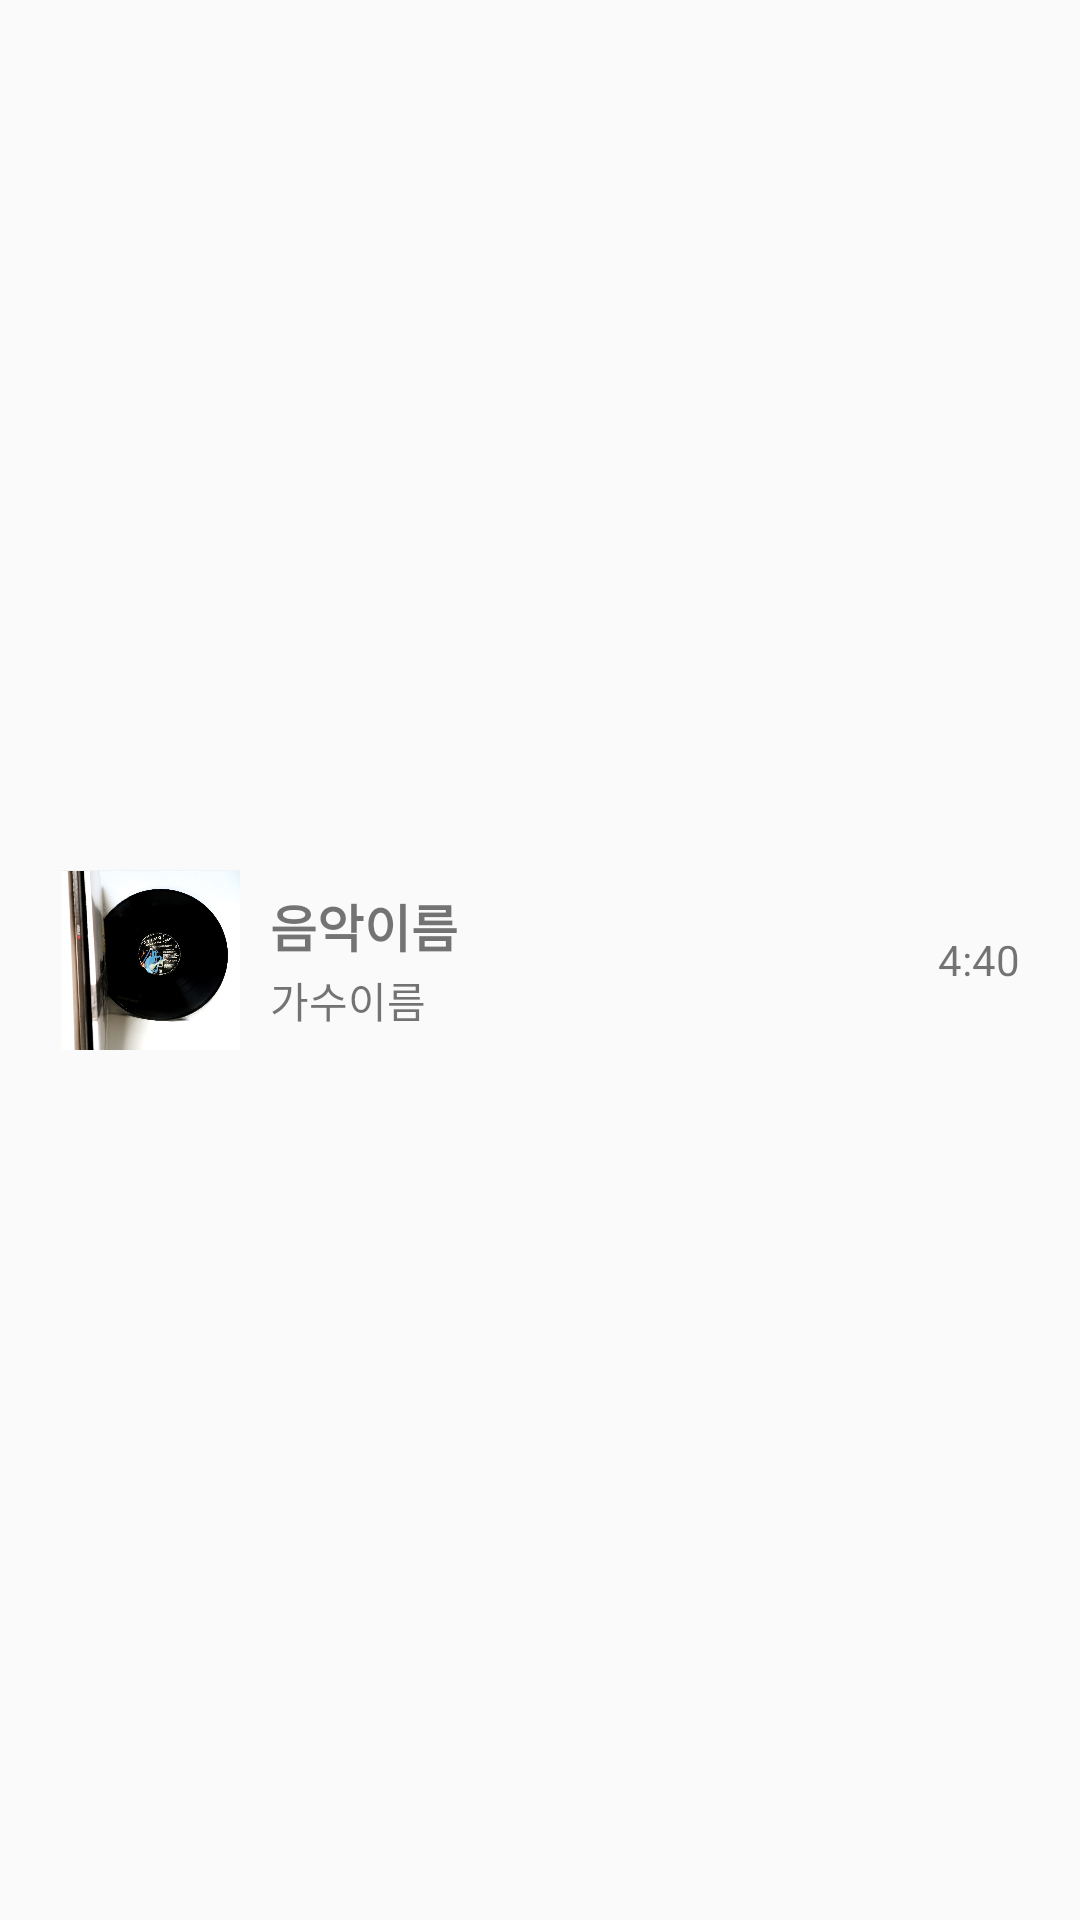

Icons on this 1080w x 1920h Android screen, each with the point to tap as [x,y]:
album: [147,960]
